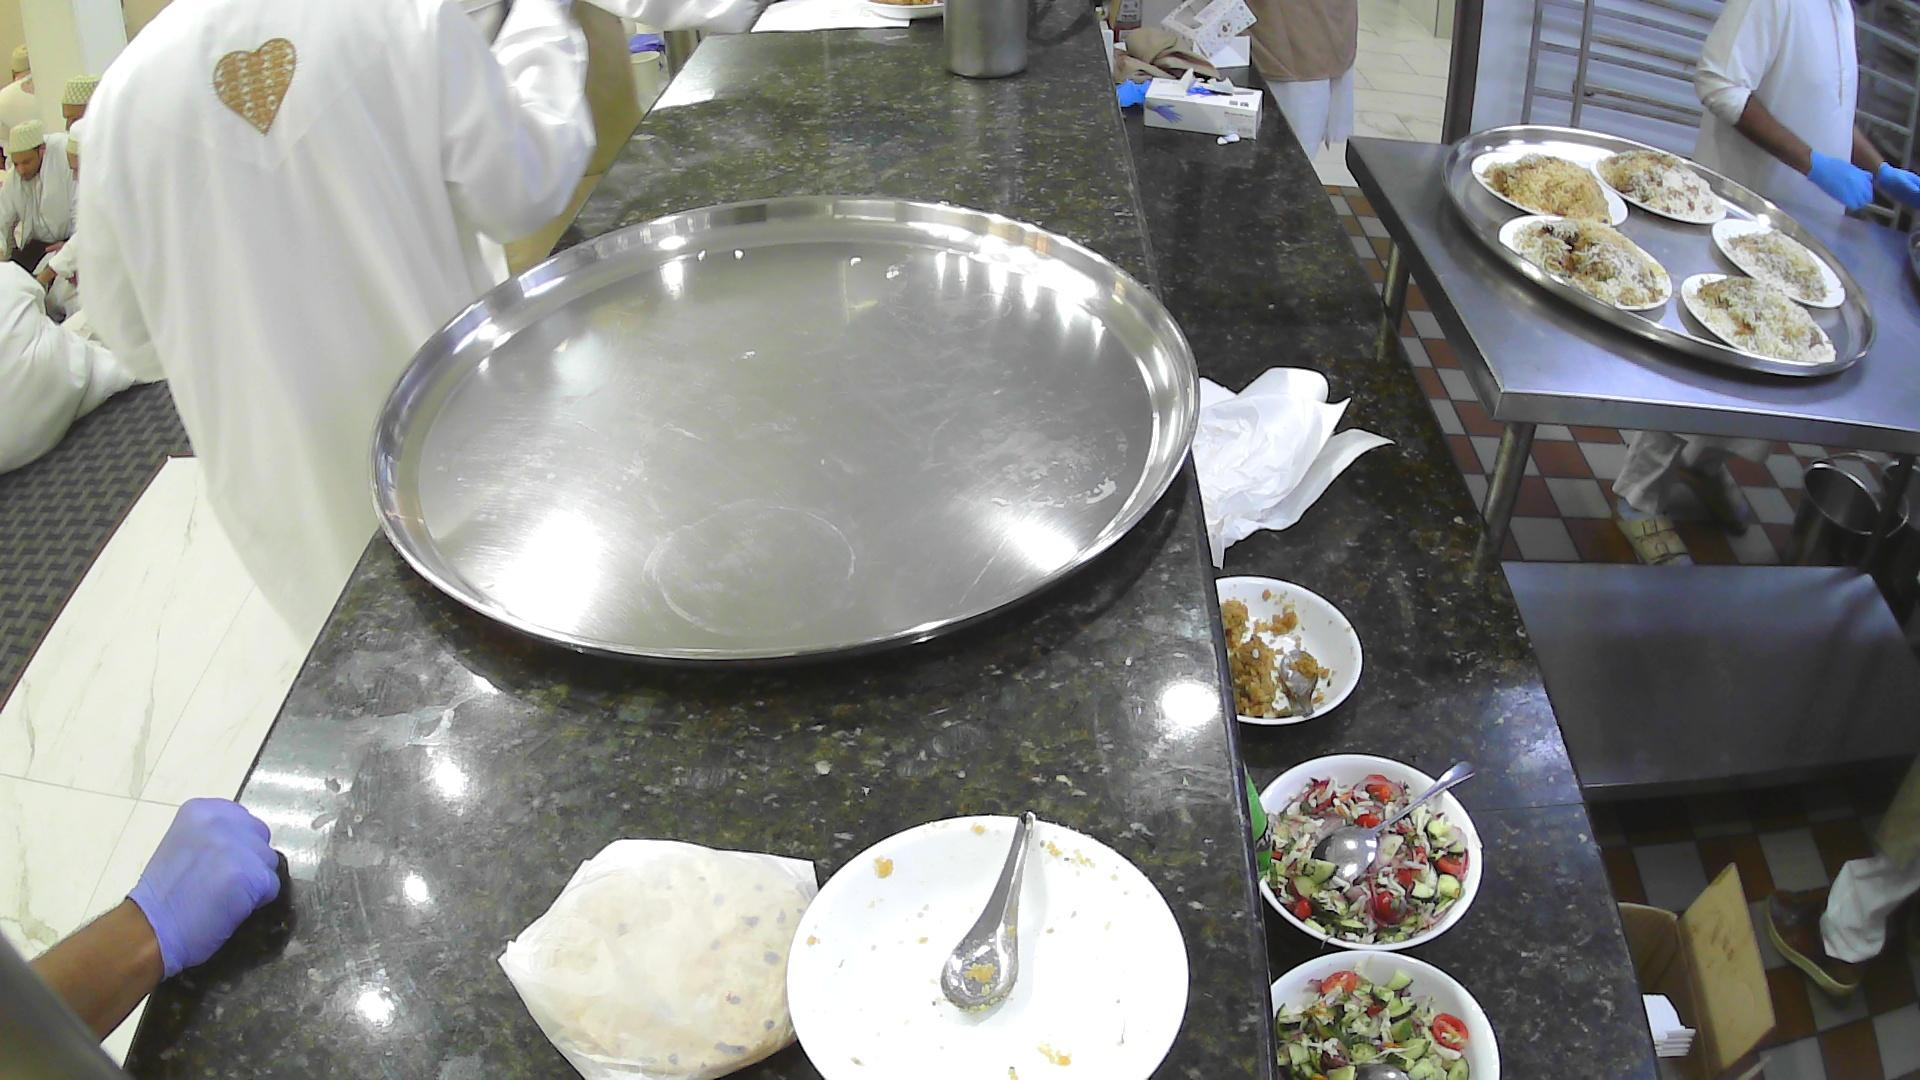thaal: (369, 193, 1201, 676), (1440, 124, 1876, 382)
